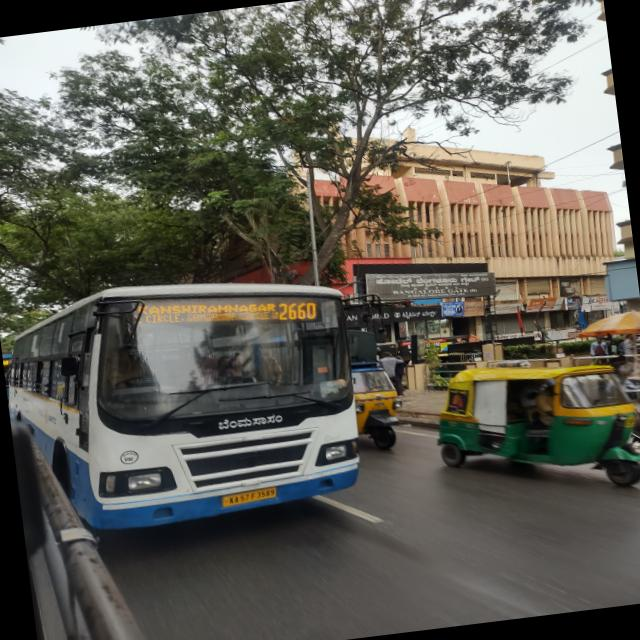bus: (0, 252, 373, 543)
display: (116, 278, 332, 350)
dnumber: (275, 292, 317, 328)
